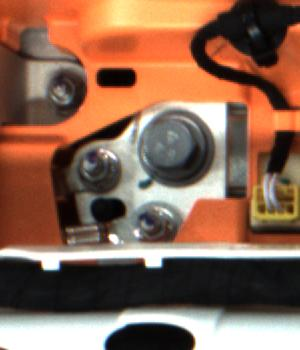nut_b: (132, 108, 218, 190)
screw_s: (73, 146, 114, 186), (132, 205, 172, 241), (44, 74, 75, 110)
